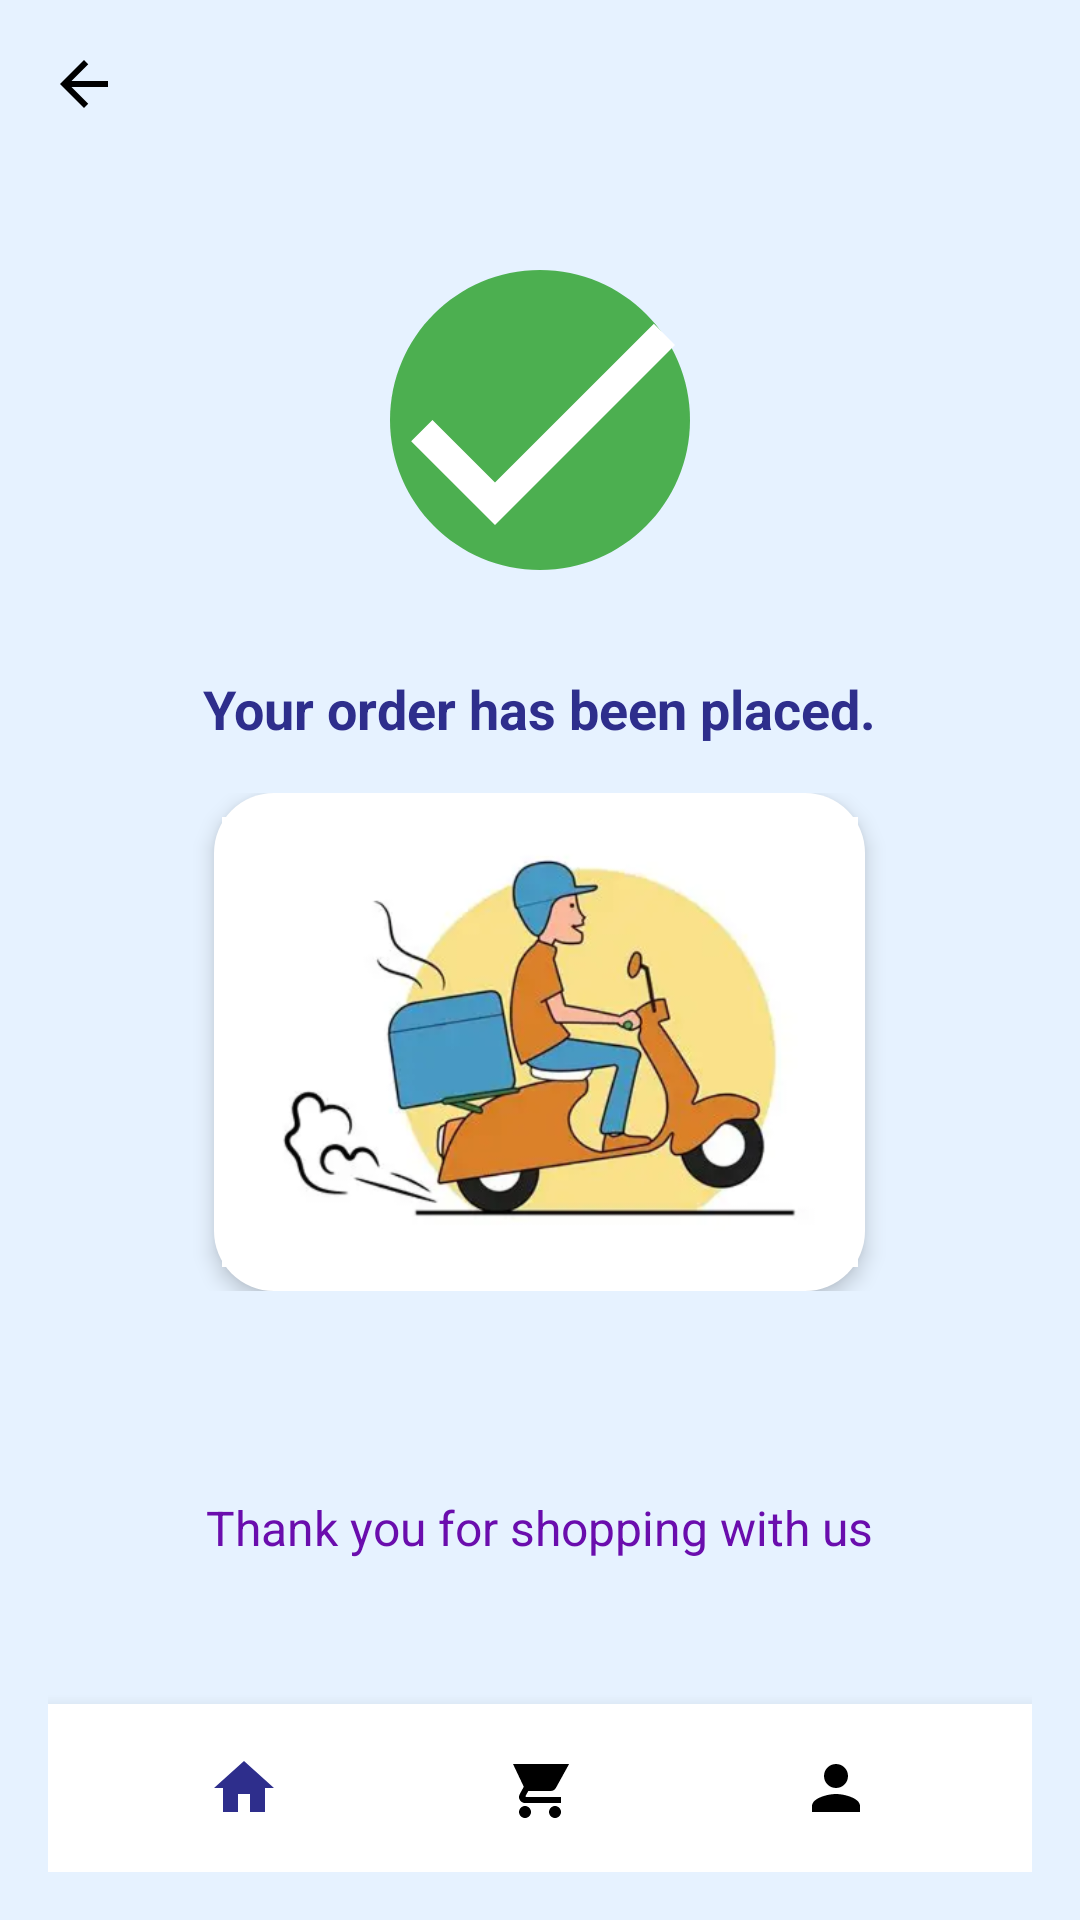

Point at icon controls on the screen. Image size 1080 x 1920, points as (x,y).
arrow back: (84,84)
home: (244,1786)
person: (836,1788)
shopping cart: (541,1791)
success: (540,420)
